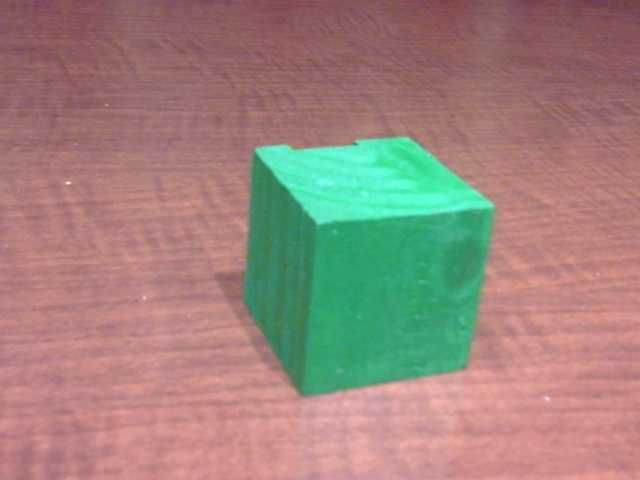GreenBlock: (244, 135, 492, 398)
